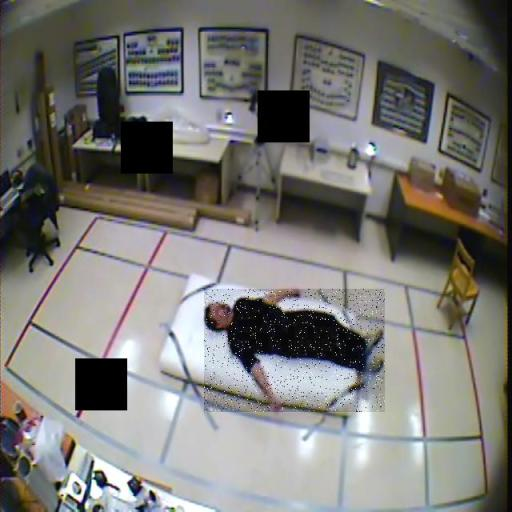Fall: (204, 289, 385, 412)
